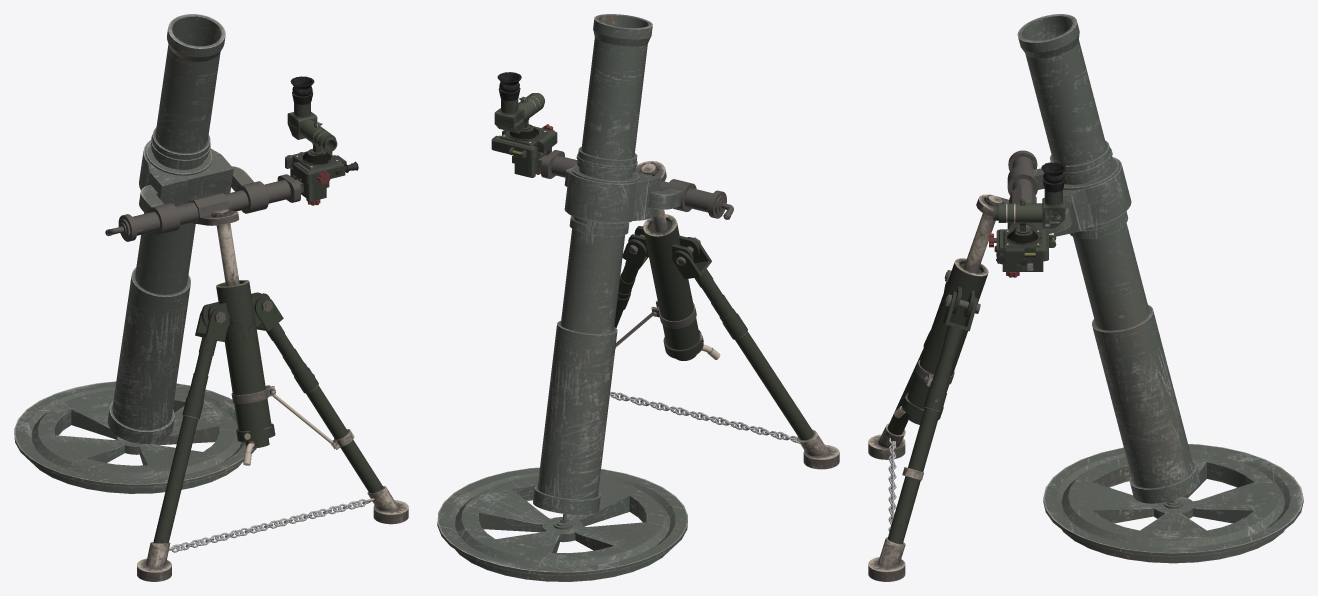
3 renders of one model, left to right at view 1: azimuth 30°, elevation 25°; view 2: azimuth 150°, elevation 25°; view 3: azimuth 270°, elevation 25°, orthographic. The views are drawn at different scales.
Visible parts, largest first — view 1: O_m224__Body, O_m224__Caaa; view 2: O_m224__Body, O_m224__Caaa; view 3: O_m224__Body.
Part boxes in pixels (x1,y1,x2,y2): O_m224__Body: [14, 14, 408, 581]; O_m224__Caaa: [171, 499, 371, 552]; O_m224__Body: [437, 14, 839, 581]; O_m224__Caaa: [610, 392, 798, 442]; O_m224__Body: [868, 14, 1303, 581].
Bounding box in the file's own units: 1.71 × 2.8 × 2.25.
Materials: 2 (1 with a texture image).
